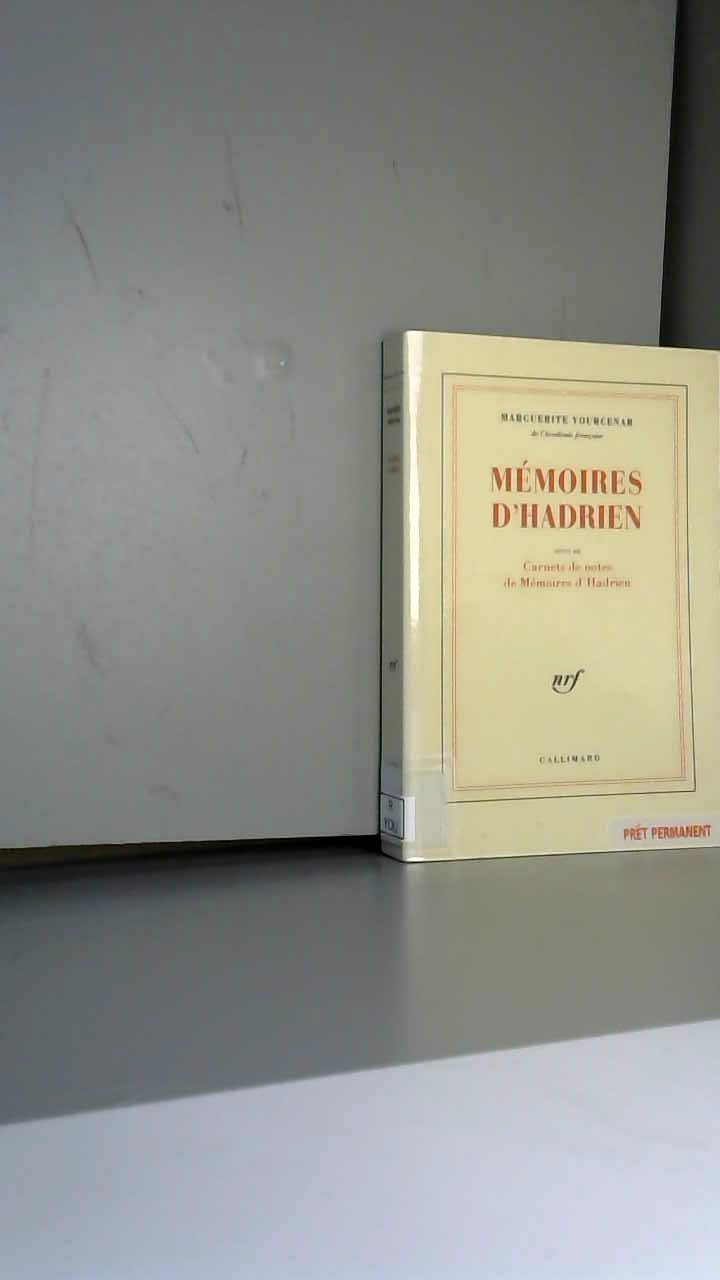book: (350, 300, 720, 936)
